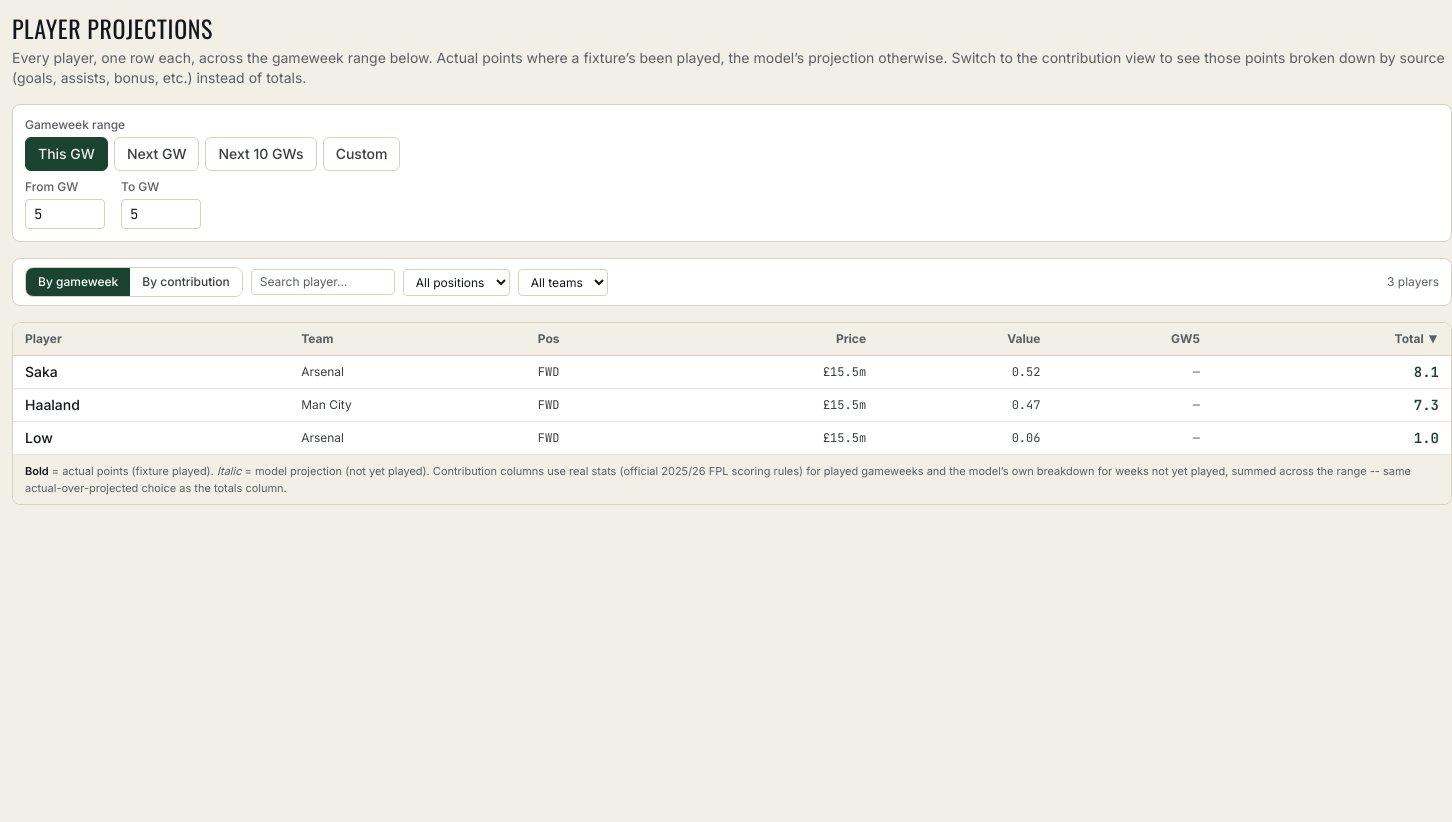
PlayerProjectionsTablePage captain planner › opens the planner with the two highest-projected players
The width and height of the screenshot is (1452, 822).
Check: the text "Haaland" is shown, box [13,388,293,422]
Click the button "Next 10 GWs" at point(261, 154), box [205,137,317,171]
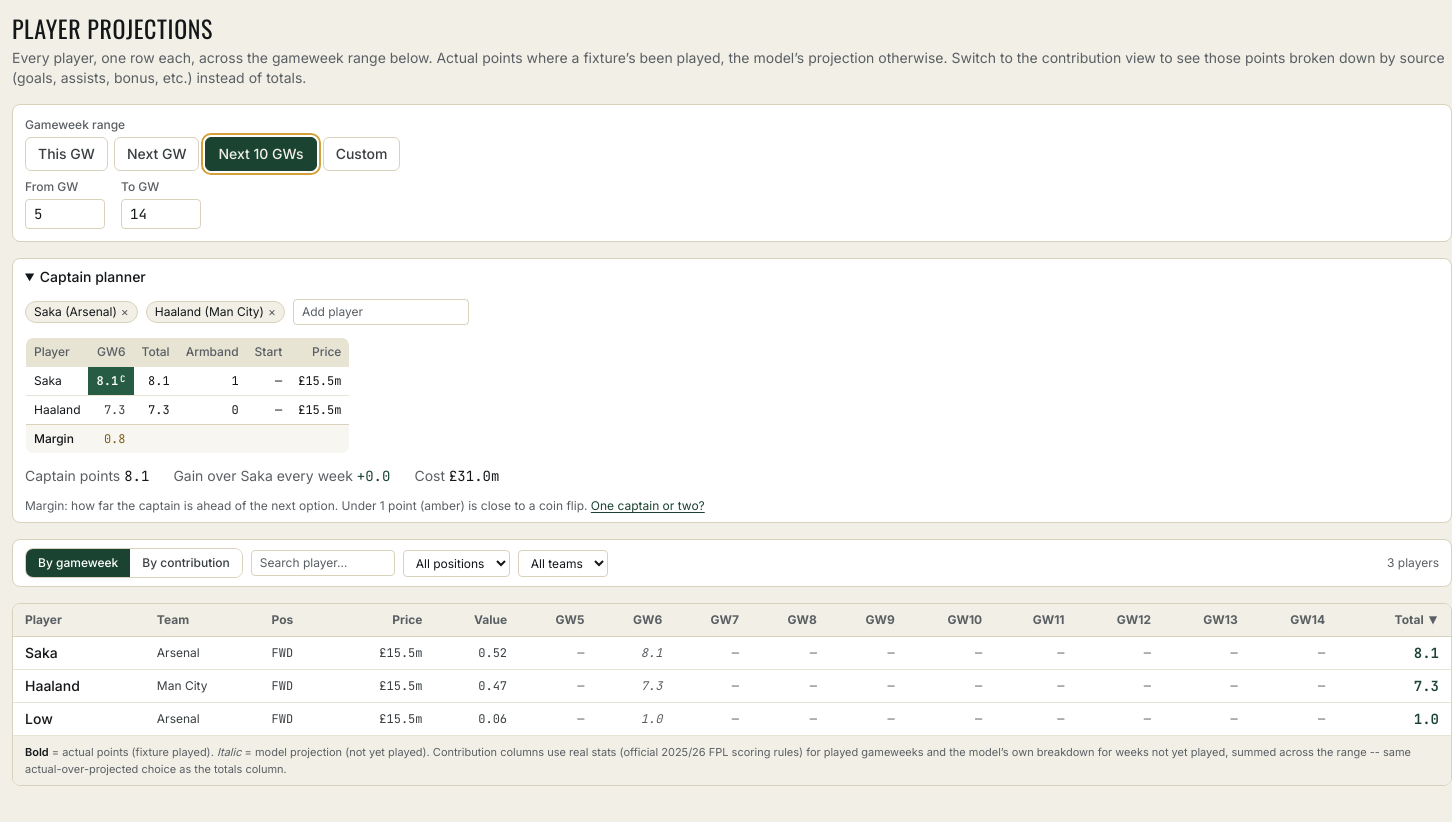
Check: the text "Gain over Saka every week" is shown, box [173,467,357,484]
